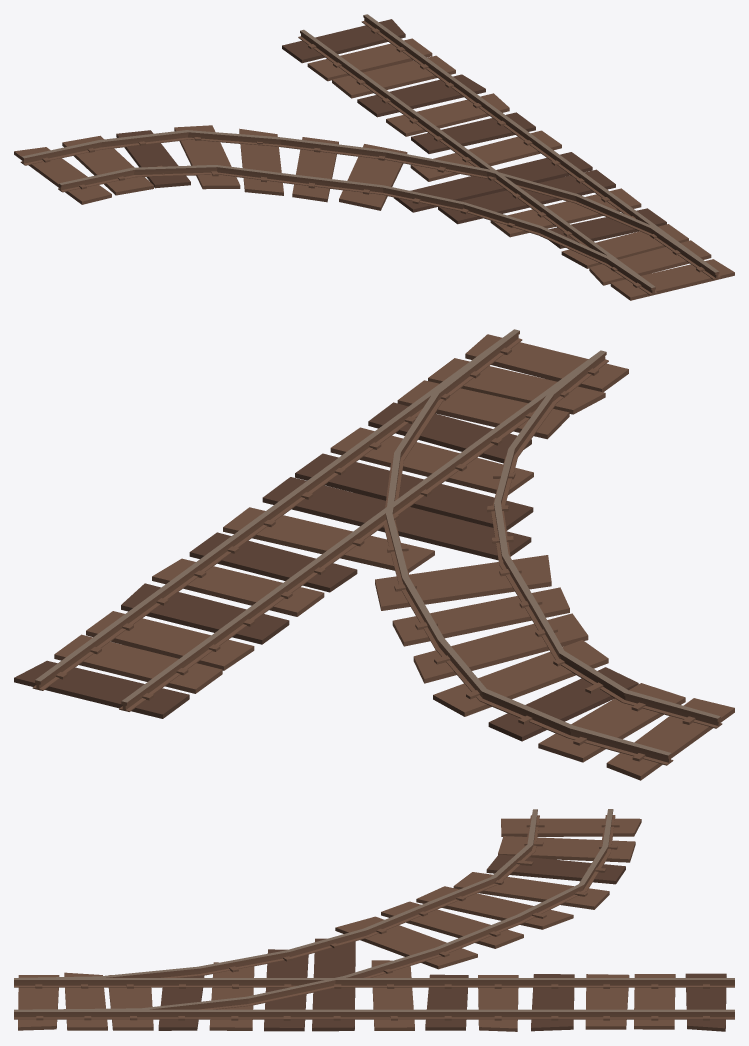
File: Mines Car Track Fork.glb
3 renders of one model, top to bottom at view 1: azimuth 30°, elevation 25°; view 2: azimuth 150°, elevation 25°; view 3: azimuth 270°, elevation 25°, orthographic. The views are drawn at different scales.
Visible parts, largest first — view 1: Mines Car Track Fork; view 2: Mines Car Track Fork; view 3: Mines Car Track Fork.
Boxes of the visible parts, left/top/right/bottom form: Mines Car Track Fork: left=14, top=14, right=734, bottom=300; Mines Car Track Fork: left=14, top=329, right=734, bottom=780; Mines Car Track Fork: left=14, top=809, right=734, bottom=1031.
Size of what is drawn, in the model's own units: 4.19 by 0.092 by 6.
Materials: 1 (1 with a texture image).
